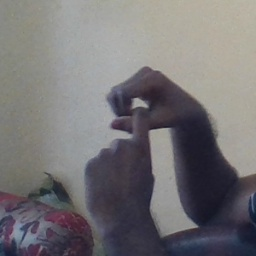Q: (80, 63, 195, 203)
